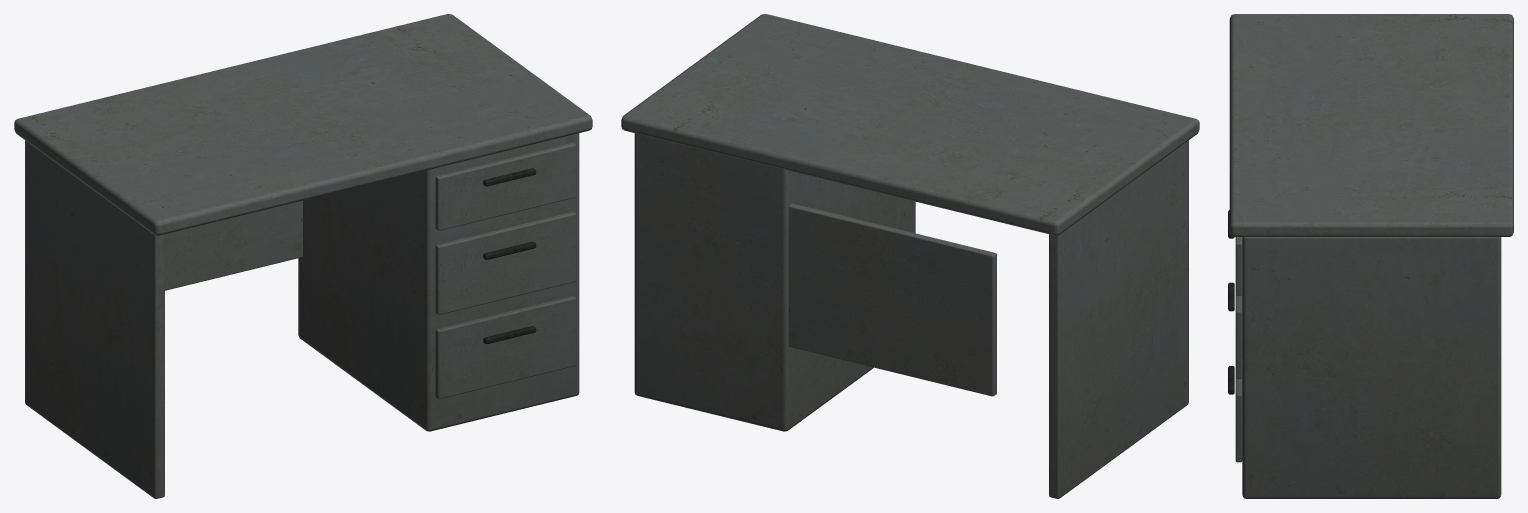
Rendered from prop_desk.glb.
3 renders of one model, left to right at view 1: azimuth 30°, elevation 25°; view 2: azimuth 150°, elevation 25°; view 3: azimuth 270°, elevation 25°, orthographic.
Visible parts, largest first — view 1: prop; view 2: prop; view 3: prop.
Boxes of the visible parts, bbox=[...] form: prop: bbox=[14, 14, 592, 498]; prop: bbox=[621, 14, 1199, 498]; prop: bbox=[1228, 14, 1513, 498].
Size of the model in its own units: 1.2 by 0.74 by 0.684.
Materials: 2 (2 with a texture image).
